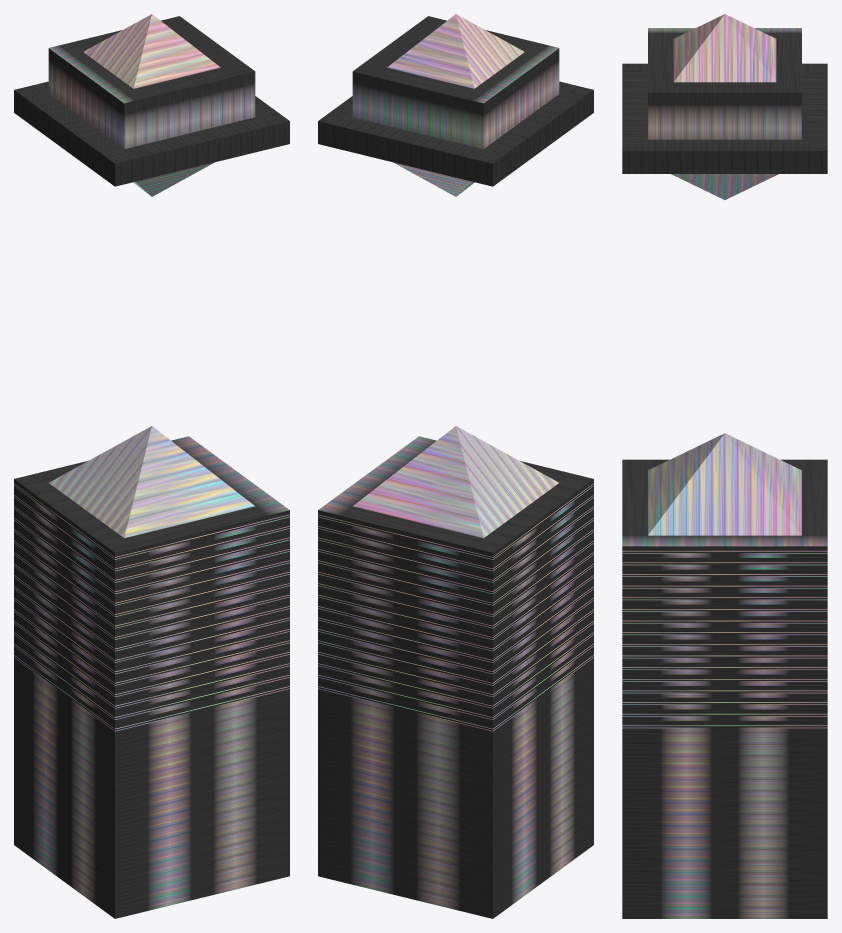
File: manaweave_cache_inner.obj
3 views of the same model, side by side, from view 1: azimuth 30°, elevation 25°; view 2: azimuth 150°, elevation 25°; view 3: azimuth 270°, elevation 25° (orthographic).
Parts seen in each view (by area): view 1: CACHE_INNER_Cube.004; view 2: CACHE_INNER_Cube.004; view 3: CACHE_INNER_Cube.004.
Part boxes in pixels (box(x1,y1,x2,y2)): CACHE_INNER_Cube.004: box(14, 14, 289, 918); CACHE_INNER_Cube.004: box(318, 14, 593, 918); CACHE_INNER_Cube.004: box(622, 14, 827, 918).
Size of the model in its own units: 0.5 by 2.31 by 0.5.
